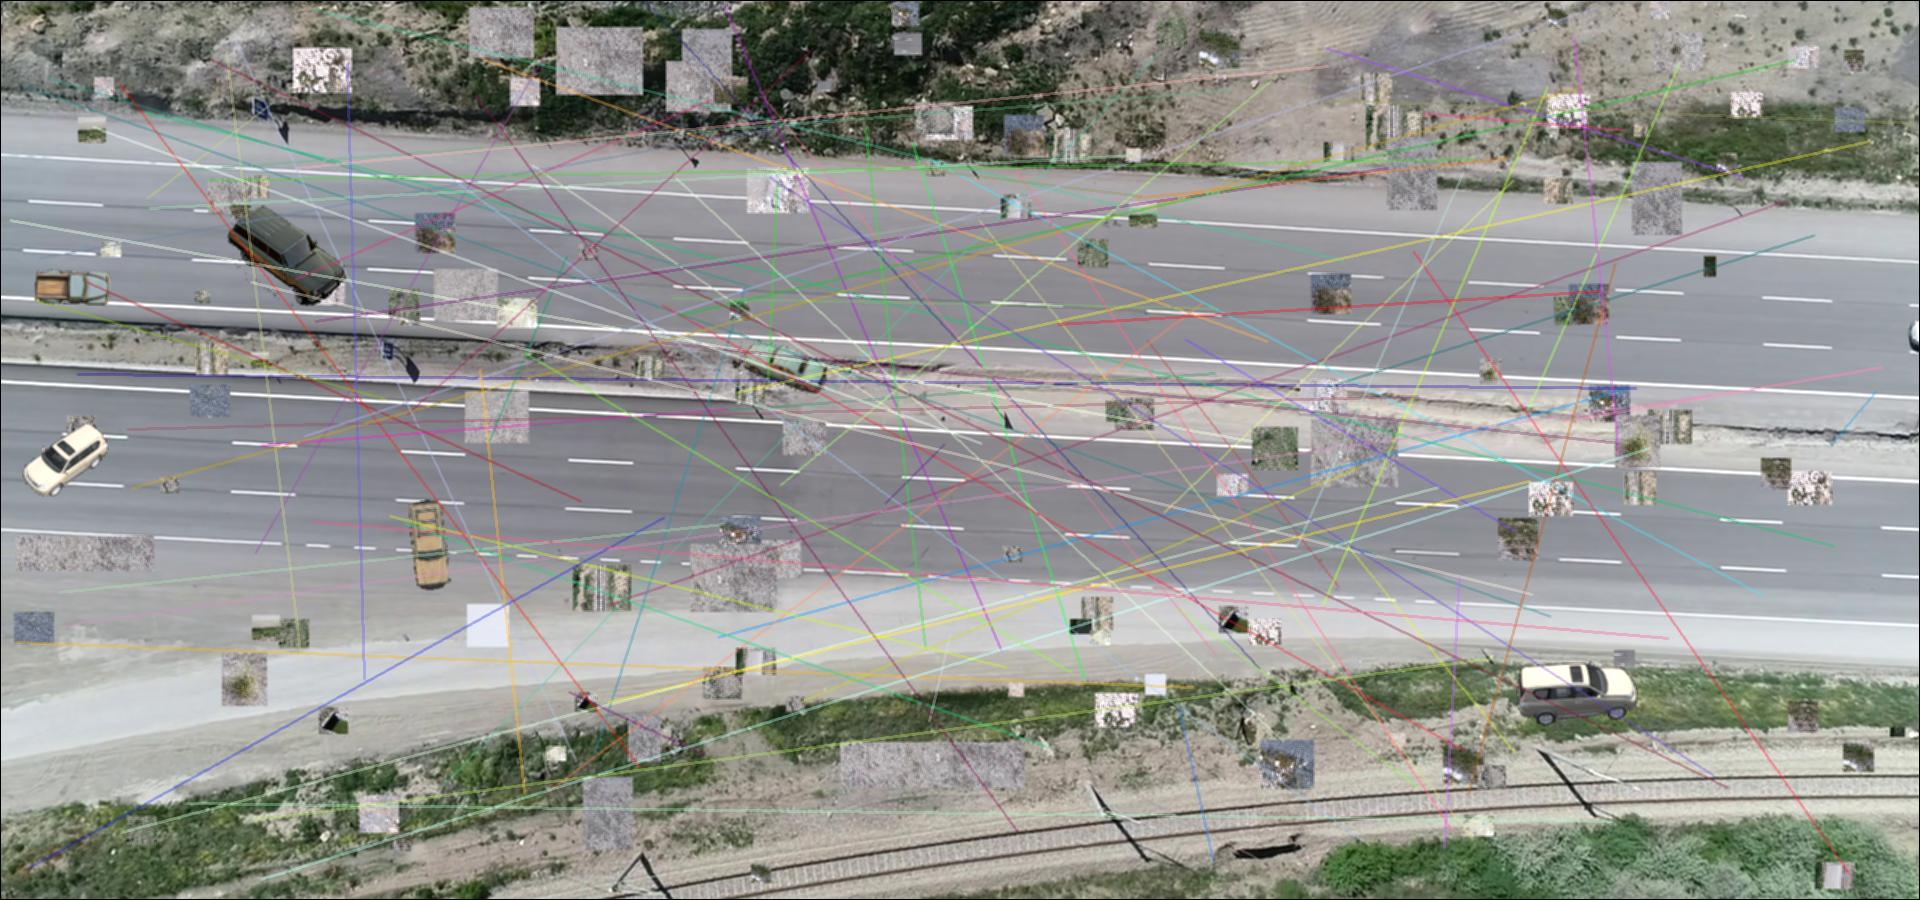arac: (227, 204, 347, 306), (1513, 661, 1642, 726), (21, 422, 111, 496), (740, 337, 829, 394), (405, 500, 452, 590), (34, 268, 110, 307)
